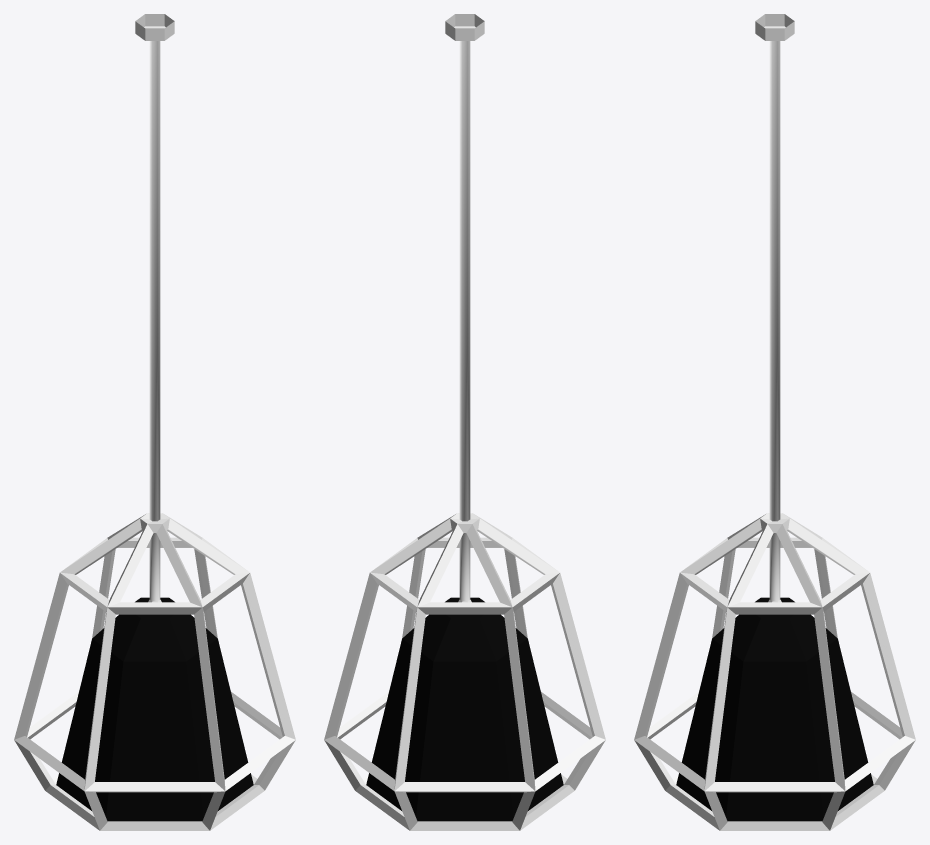
File: LightFixture.fbx
The picture shows the model from 3 angles, left to right: view 1: azimuth 30°, elevation 25°; view 2: azimuth 150°, elevation 25°; view 3: azimuth 270°, elevation 25°; orthographic projection.
Parts seen in each view (by area): view 1: LightFixture; view 2: LightFixture; view 3: LightFixture.
Boxes of the visible parts, left/top/right/bottom form: LightFixture: left=14, top=14, right=295, bottom=830; LightFixture: left=324, top=14, right=605, bottom=830; LightFixture: left=634, top=14, right=915, bottom=830.
Bounding box in the file's own units: 15.2 × 53.03 × 17.55.
